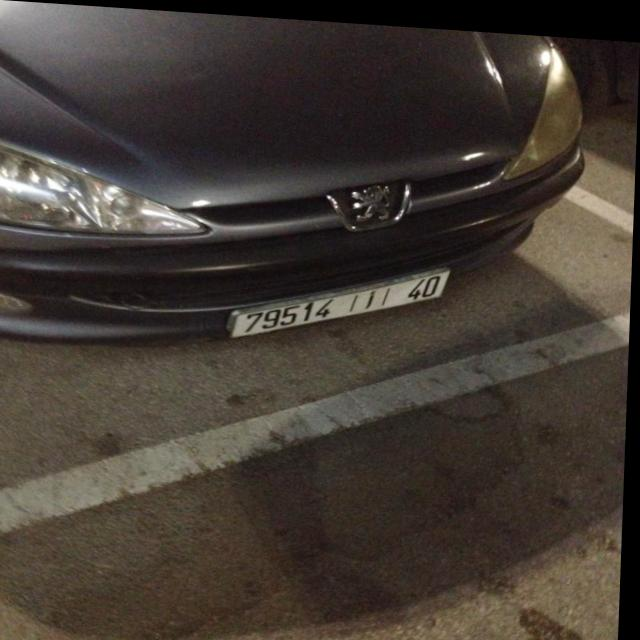License-Plate: (231, 262, 451, 334)
